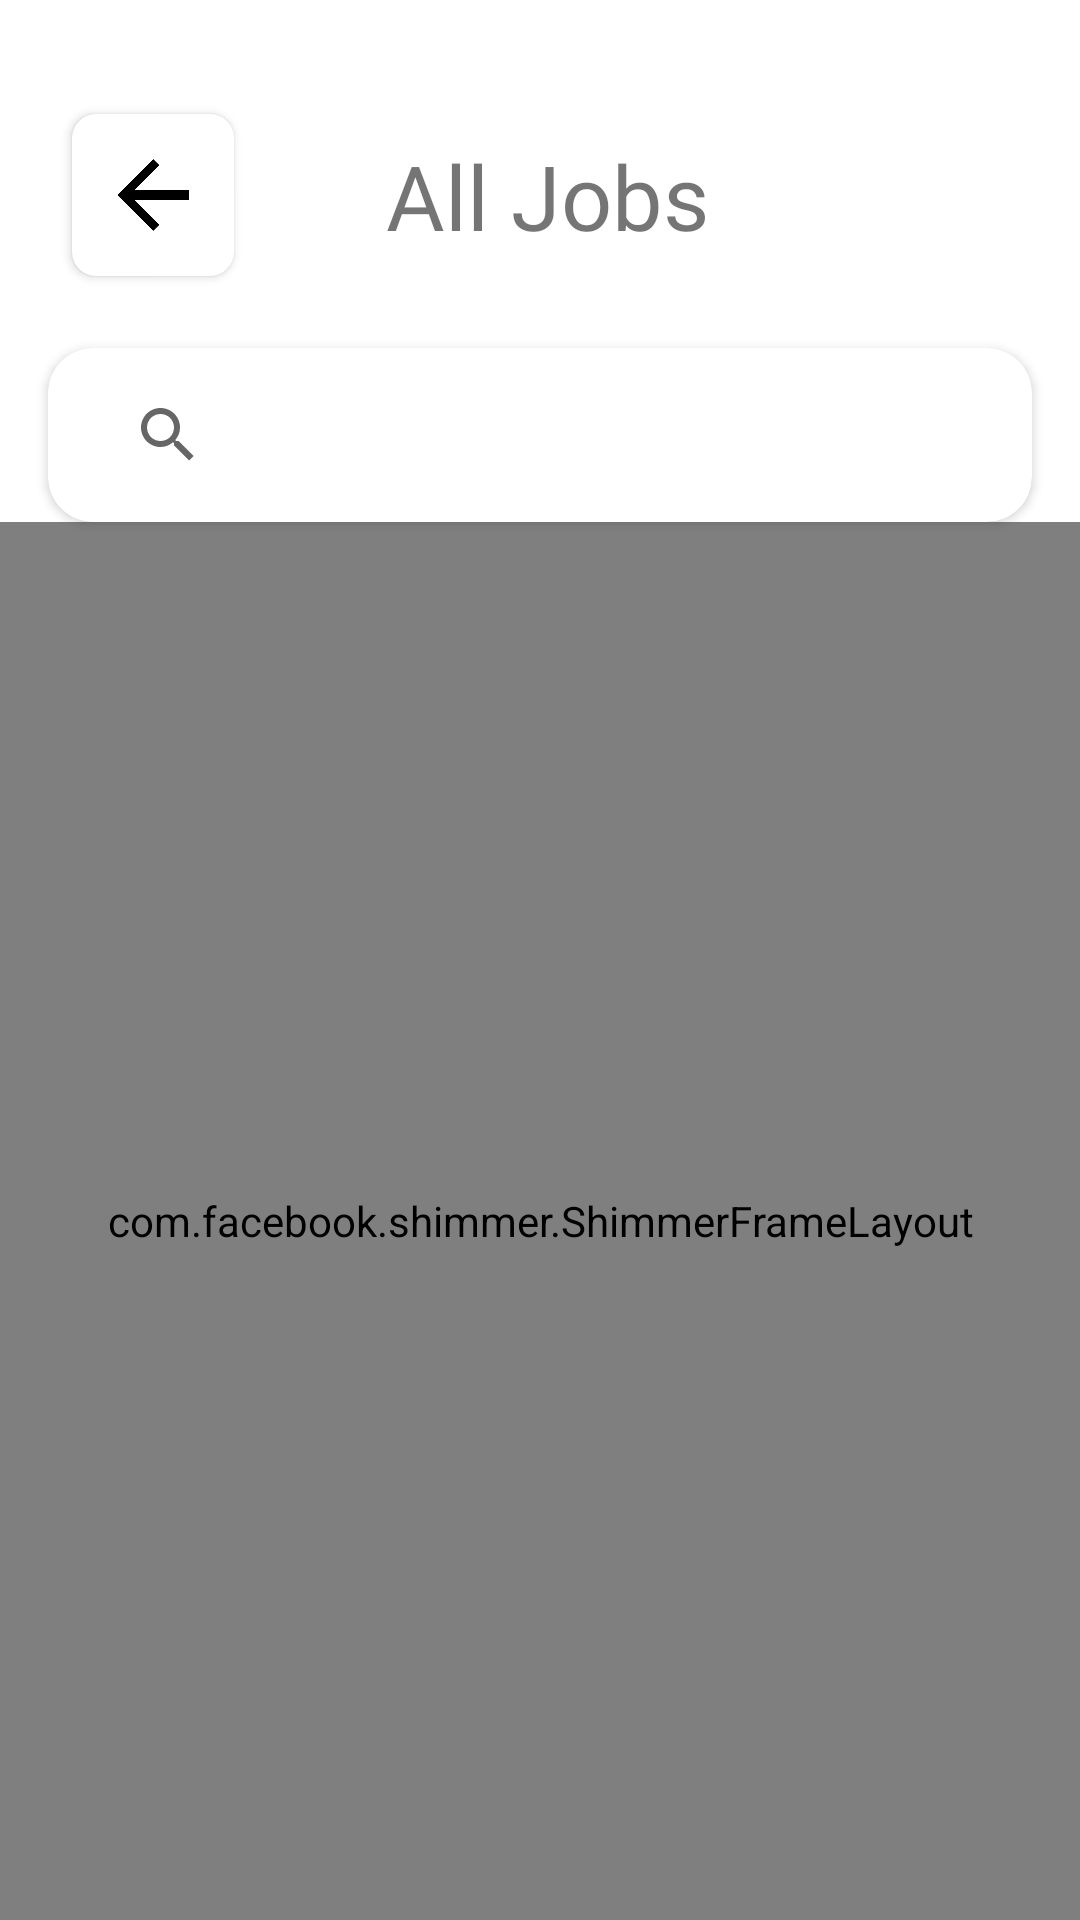

Icon click points for this 1080 × 1920 phone screenshot, format point (x, y):
back: point (153, 195)
